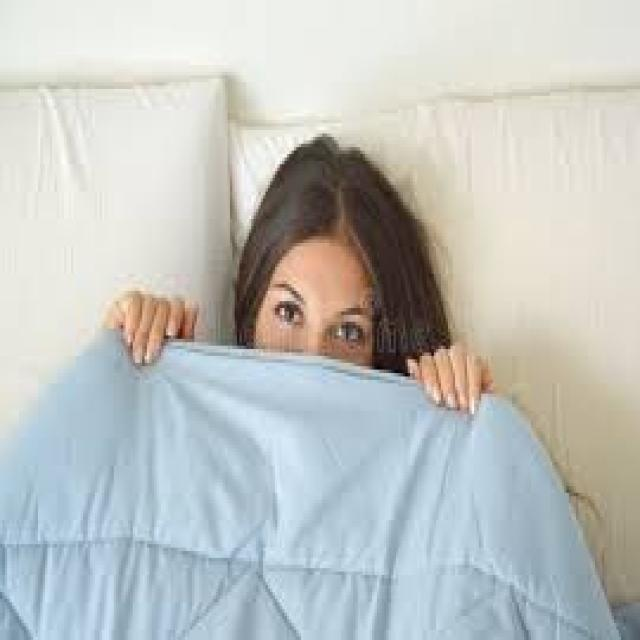blanket: (1, 333, 618, 639)
